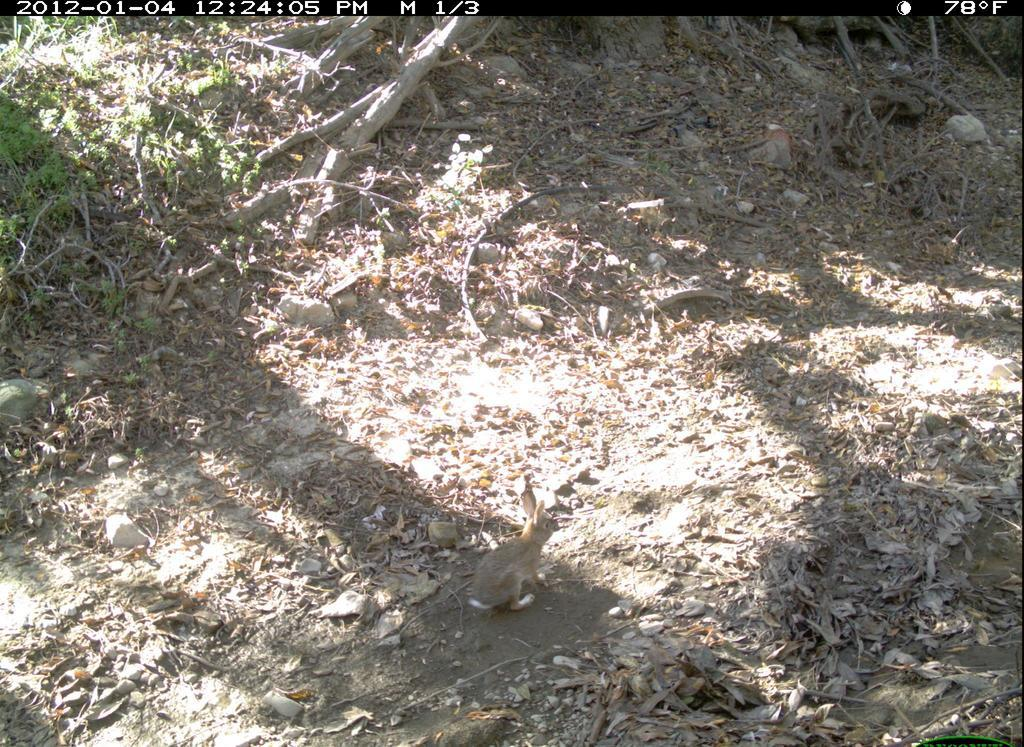rabbit: (461, 487, 566, 625)
